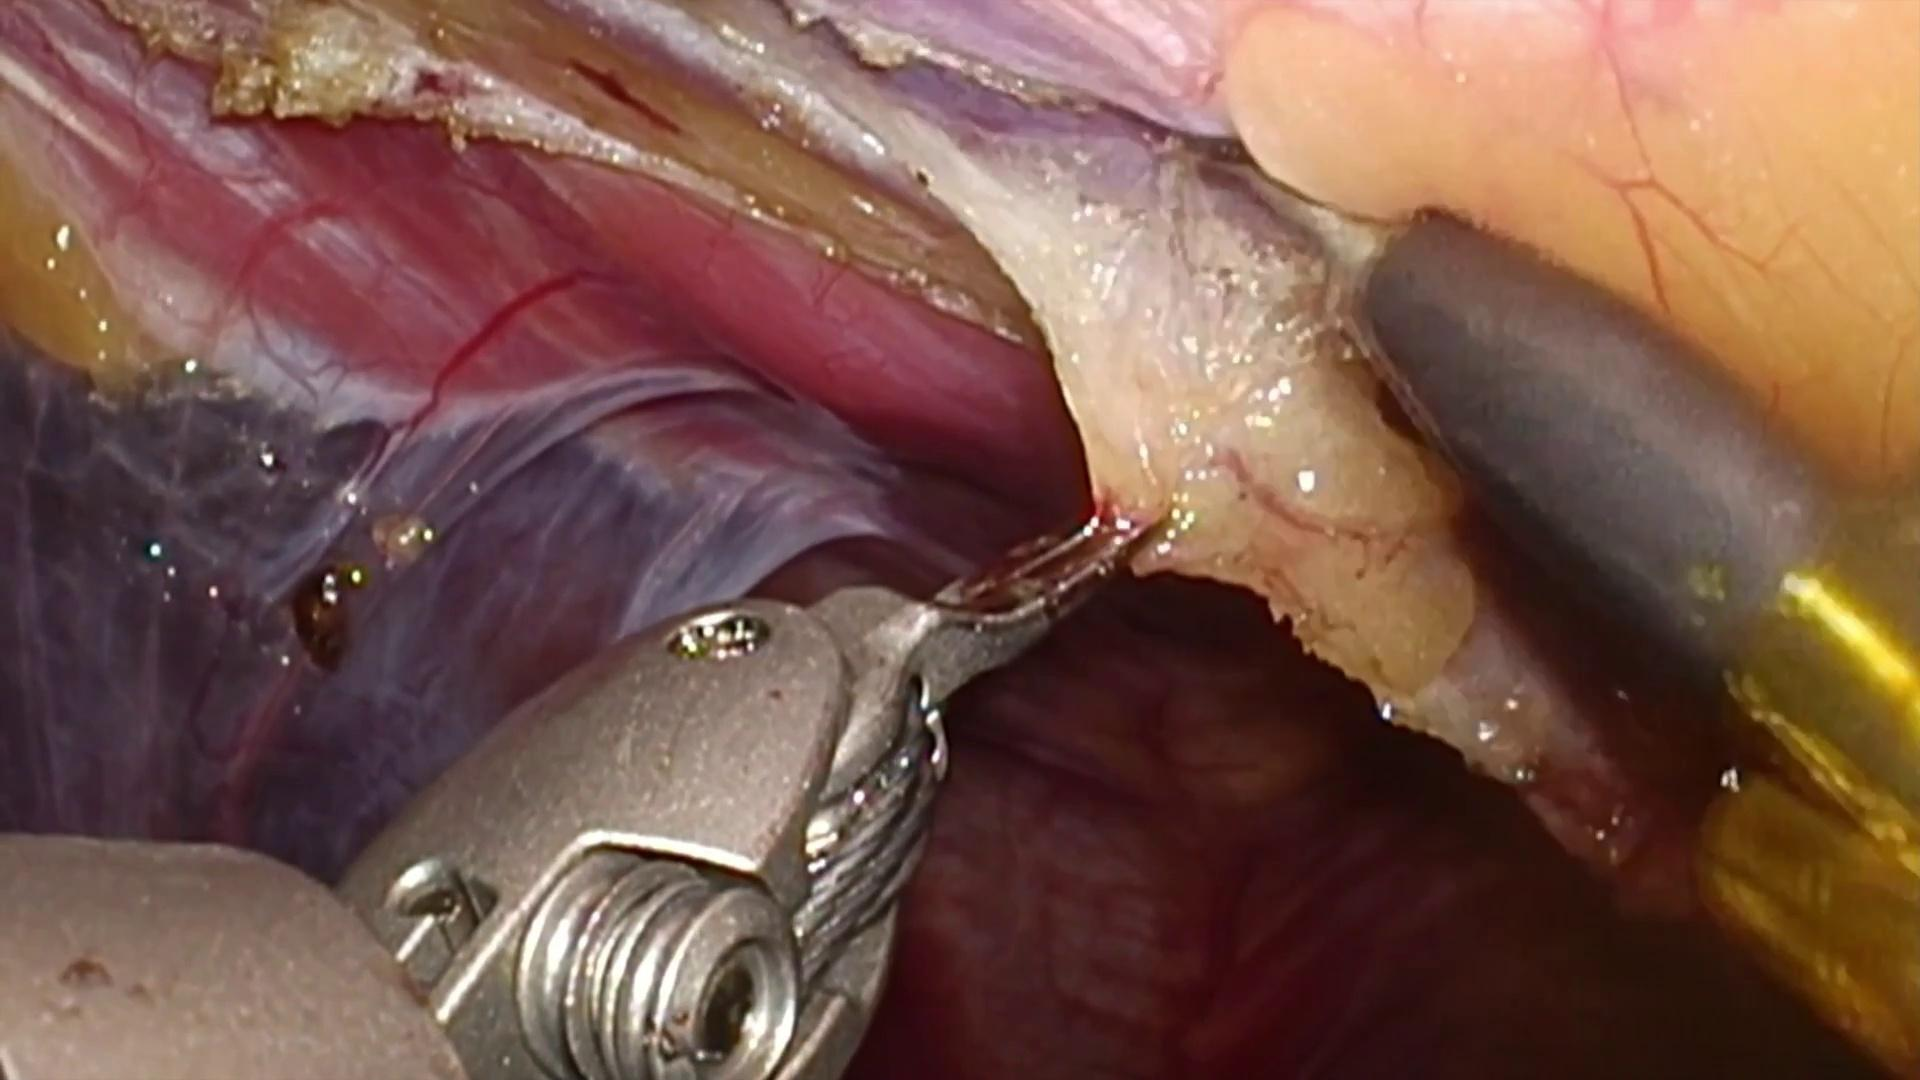Cautery_Spatula: (1168, 132, 1845, 692)
Debakey: (810, 502, 1167, 752)
